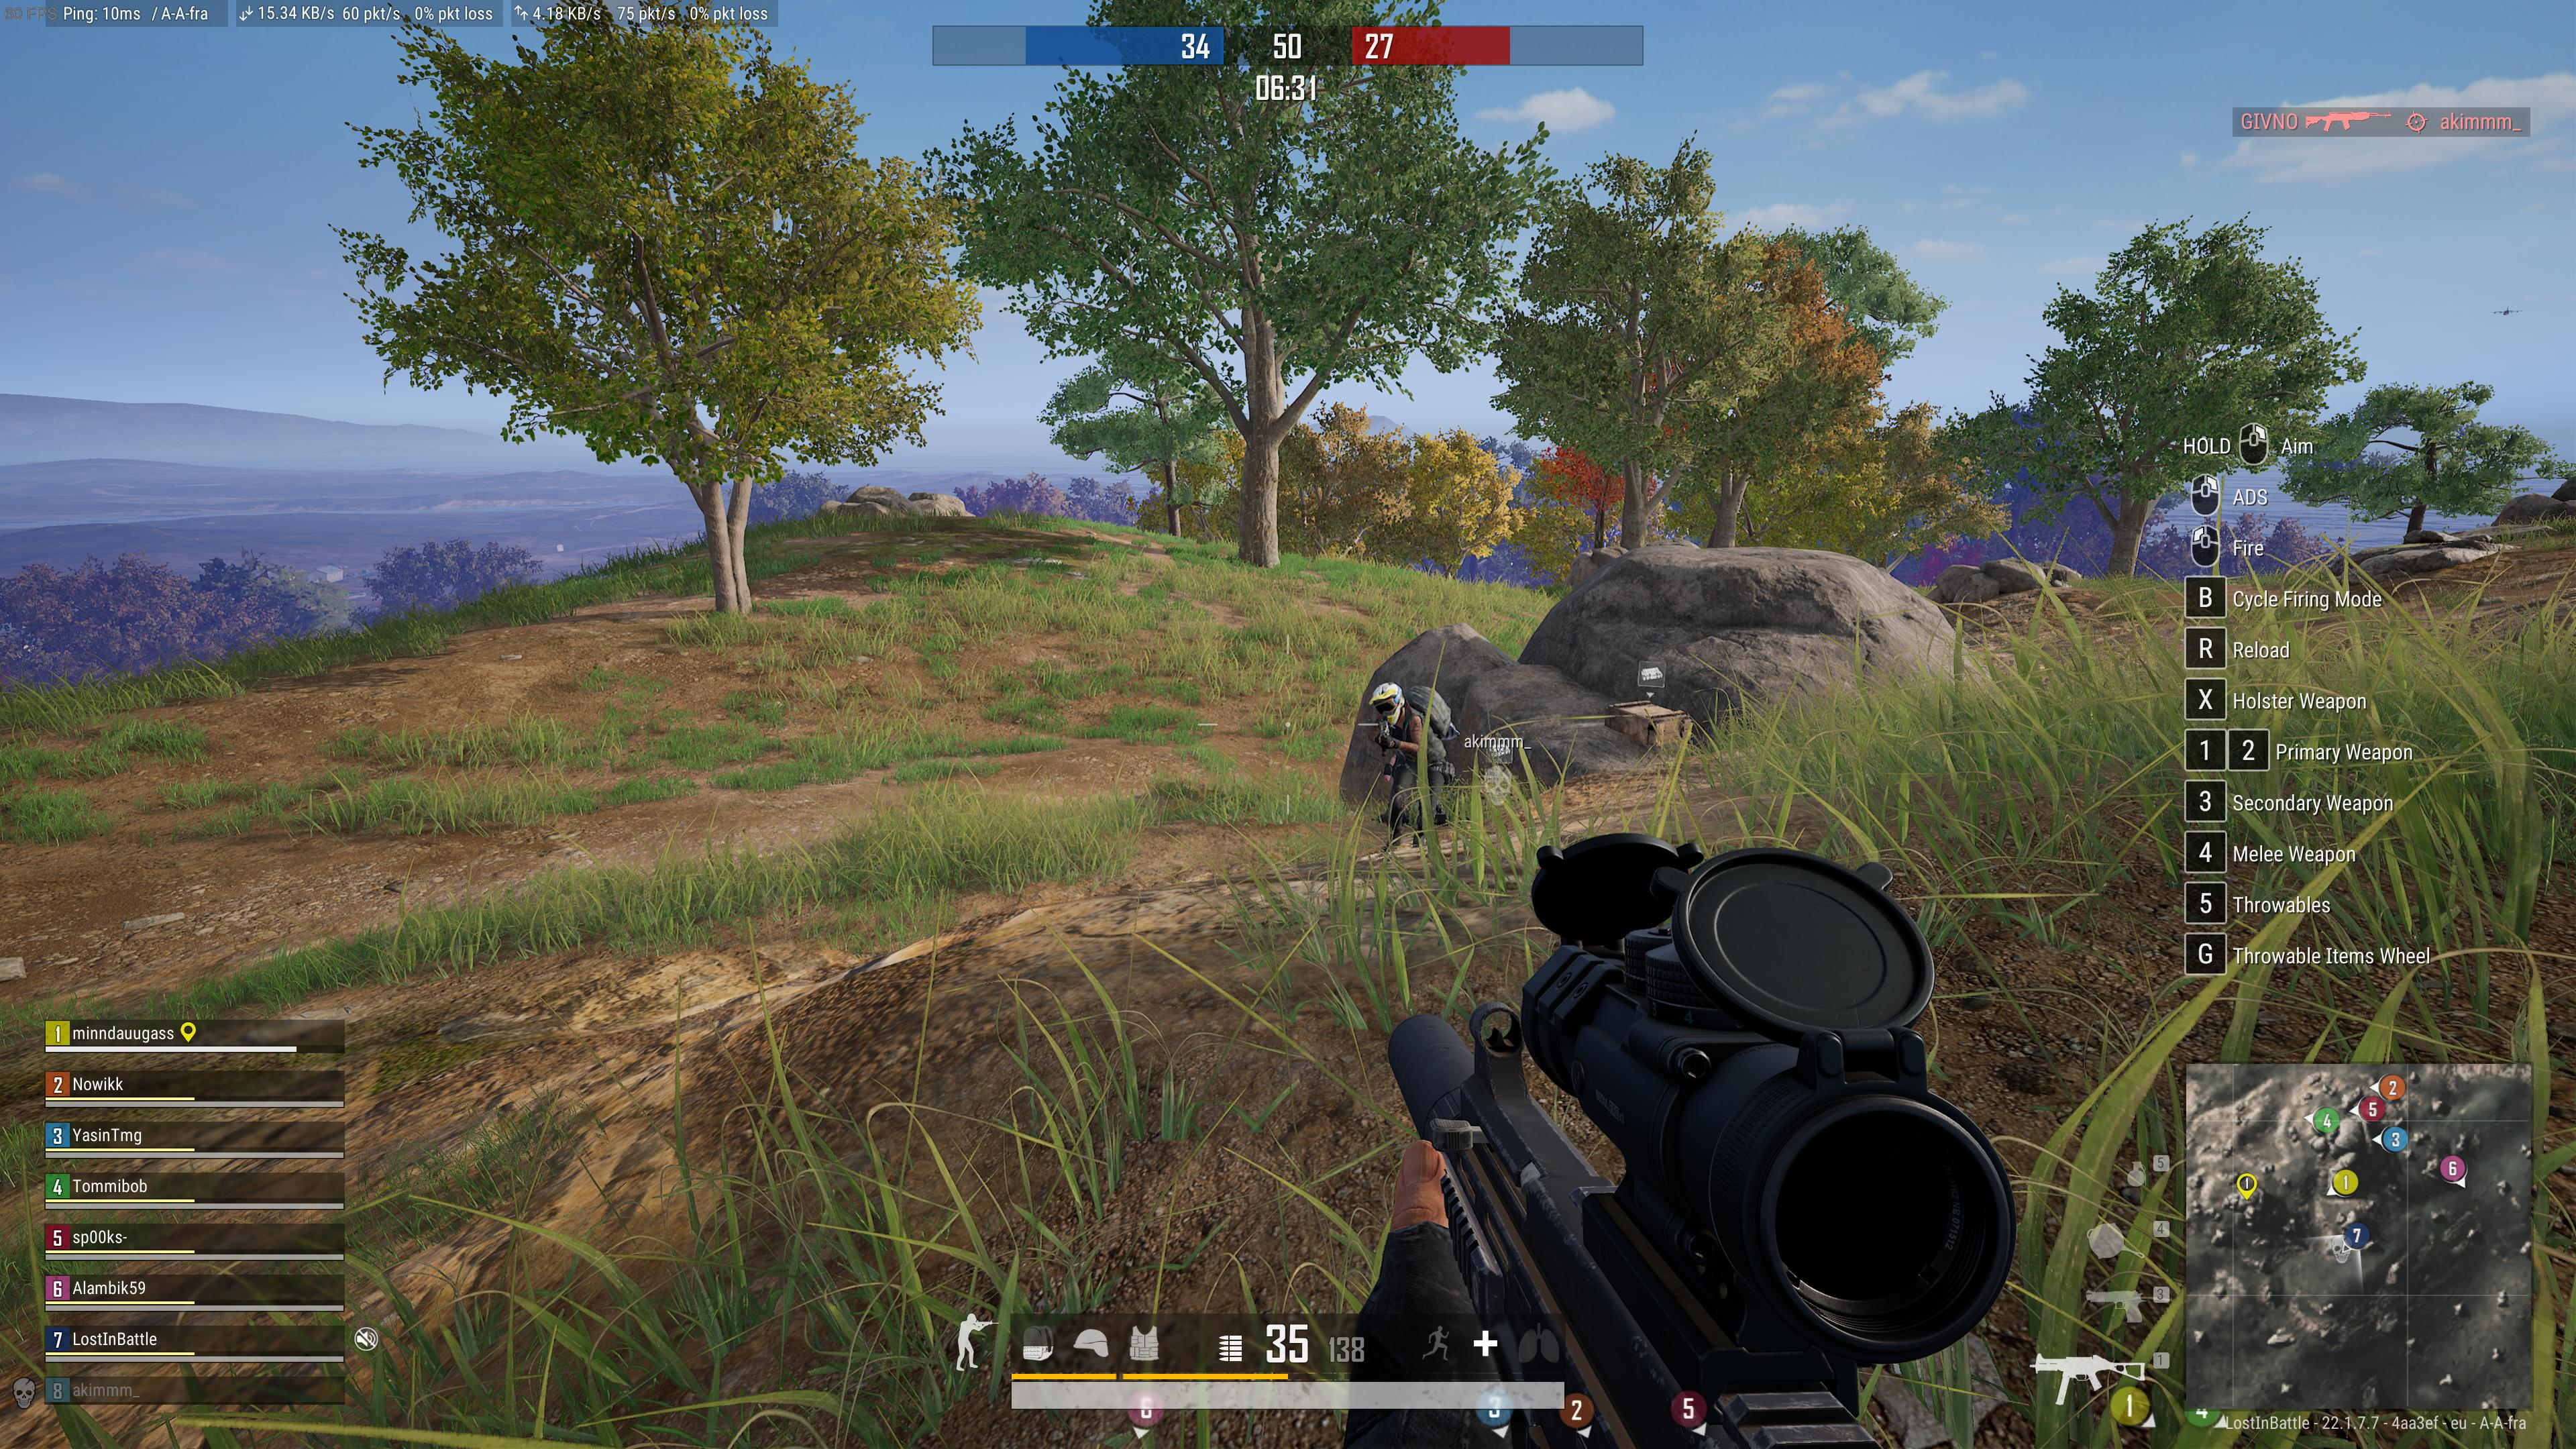enemy: (1364, 678, 1458, 853)
enemy_head: (1368, 679, 1408, 727)
